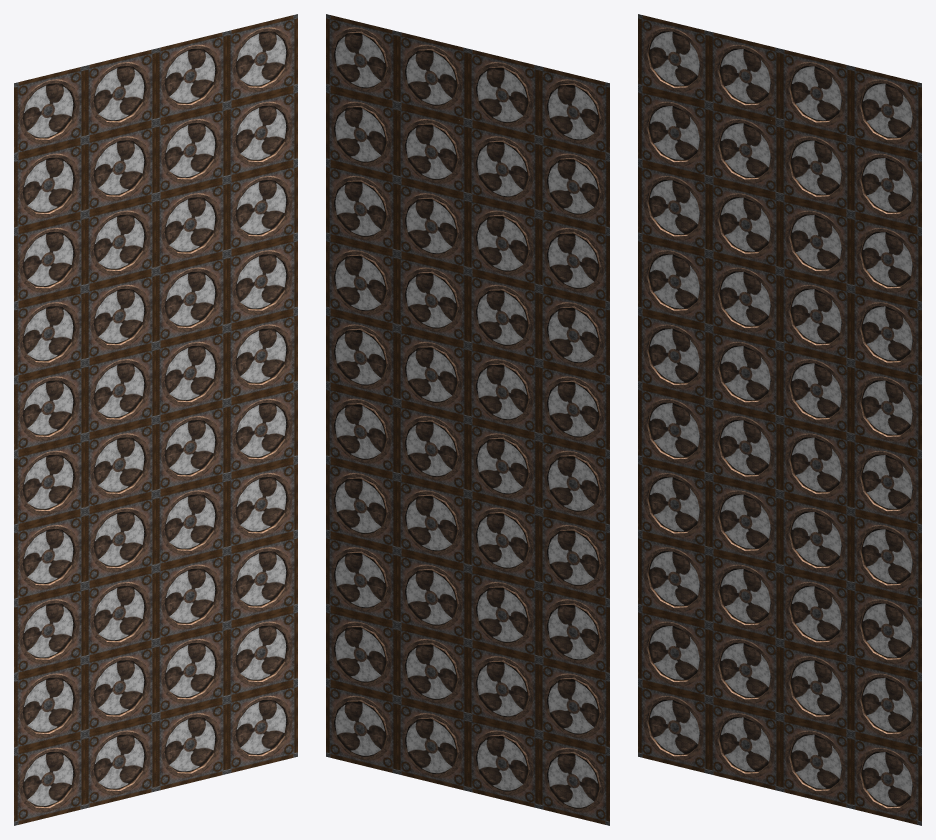
The model's file is fan_wall_test.glb.
3 views of the same model, side by side, from view 1: azimuth 30°, elevation 25°; view 2: azimuth 150°, elevation 25°; view 3: azimuth 330°, elevation 25° (orthographic).
Parts seen in each view (by area): view 1: Plane.001; view 2: Plane.001; view 3: Plane.001.
Part boxes in pixels (left/top/right/bottom): Plane.001: left=14, top=14, right=297, bottom=825; Plane.001: left=326, top=14, right=609, bottom=825; Plane.001: left=638, top=14, right=921, bottom=825.
Bounding box in the file's own units: 23.11 × 57.76 × 0.1715.
1 material, 1 textured.
